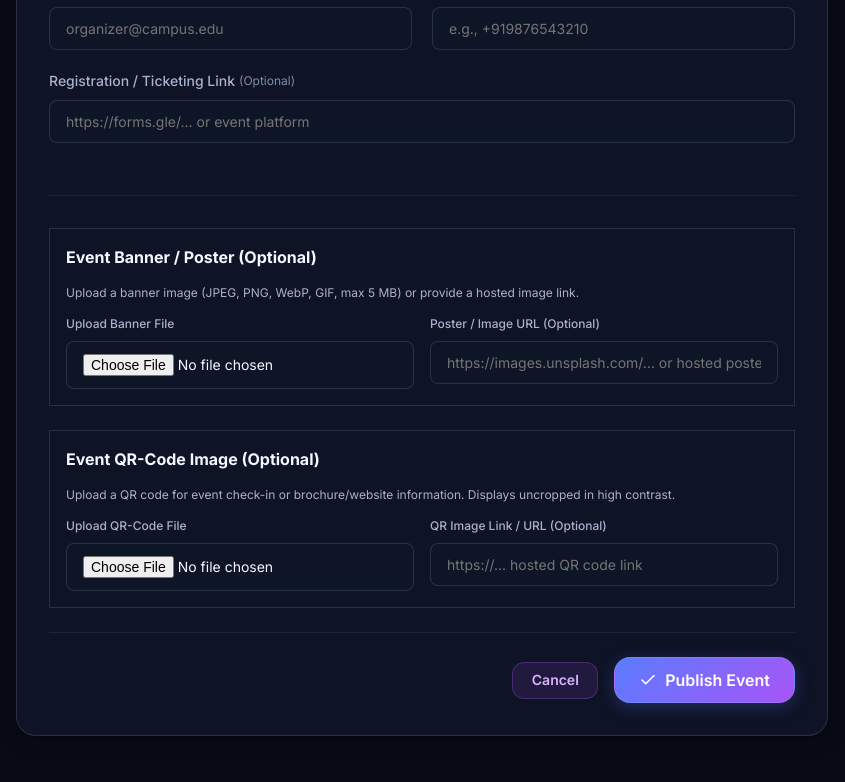
it: AdminEventFormPage Component › validates required fields before submitting
(page scrolled)
Click the button "Publish Event": click(705, 680) [614,657,795,703]
(page scrolled)
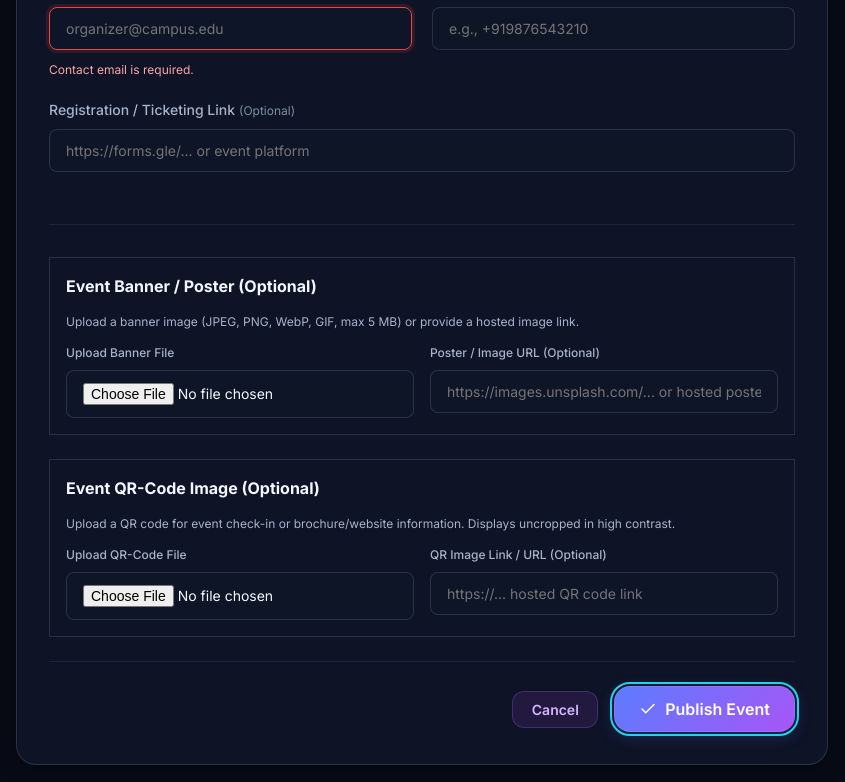
Now the text "Contact email is required." is shown, box [49,62,194,77]
